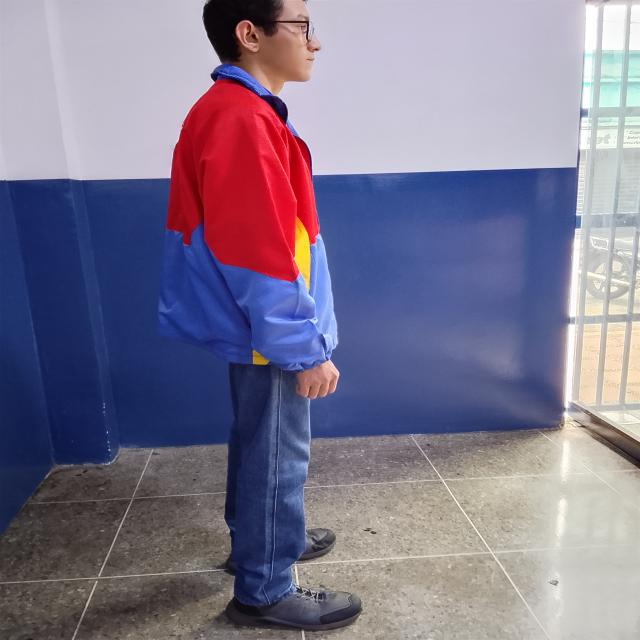chaqueta_unefa: (157, 63, 339, 372)
